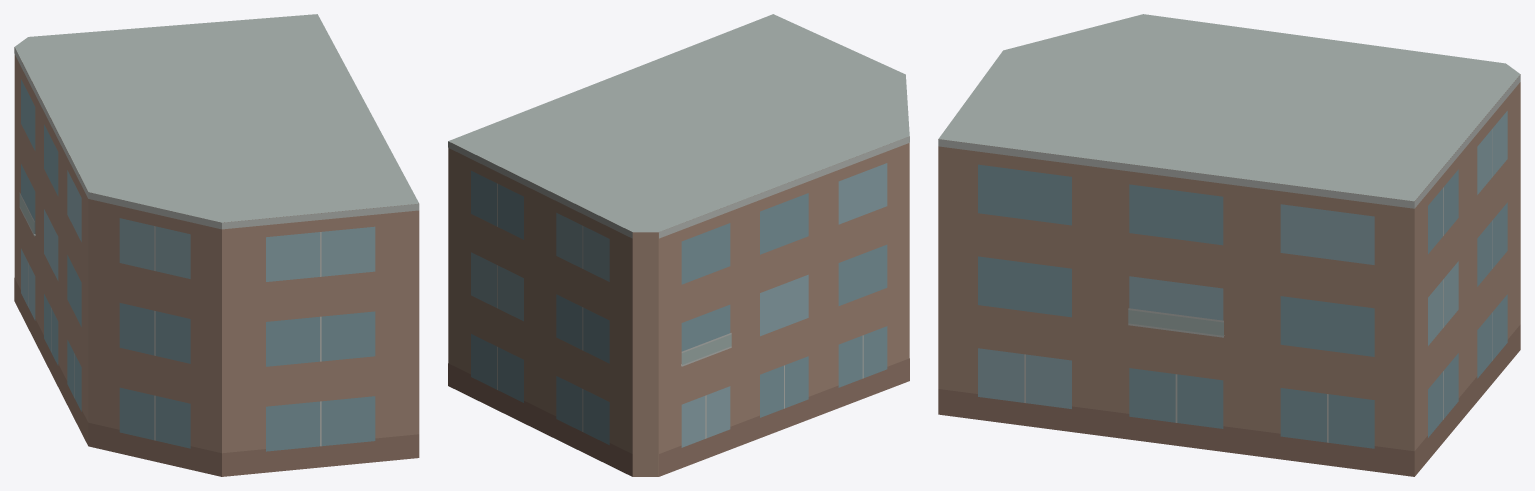
Rendered from survey-upis-32658866.glb.
3 renders of one model, left to right at view 1: azimuth 30°, elevation 25°; view 2: azimuth 150°, elevation 25°; view 3: azimuth 270°, elevation 25°, orthographic. The views are drawn at different scales.
Parts seen in each view (by area): view 1: survey-upis-32658866.tmp; view 2: survey-upis-32658866.tmp; view 3: survey-upis-32658866.tmp.
Part boxes in pixels (x1,y1,x2,y2): survey-upis-32658866.tmp: [14, 14, 419, 476]; survey-upis-32658866.tmp: [448, 14, 909, 476]; survey-upis-32658866.tmp: [938, 14, 1520, 476].
Bounding box in the file's own units: 13.36 × 9.15 × 17.54.
